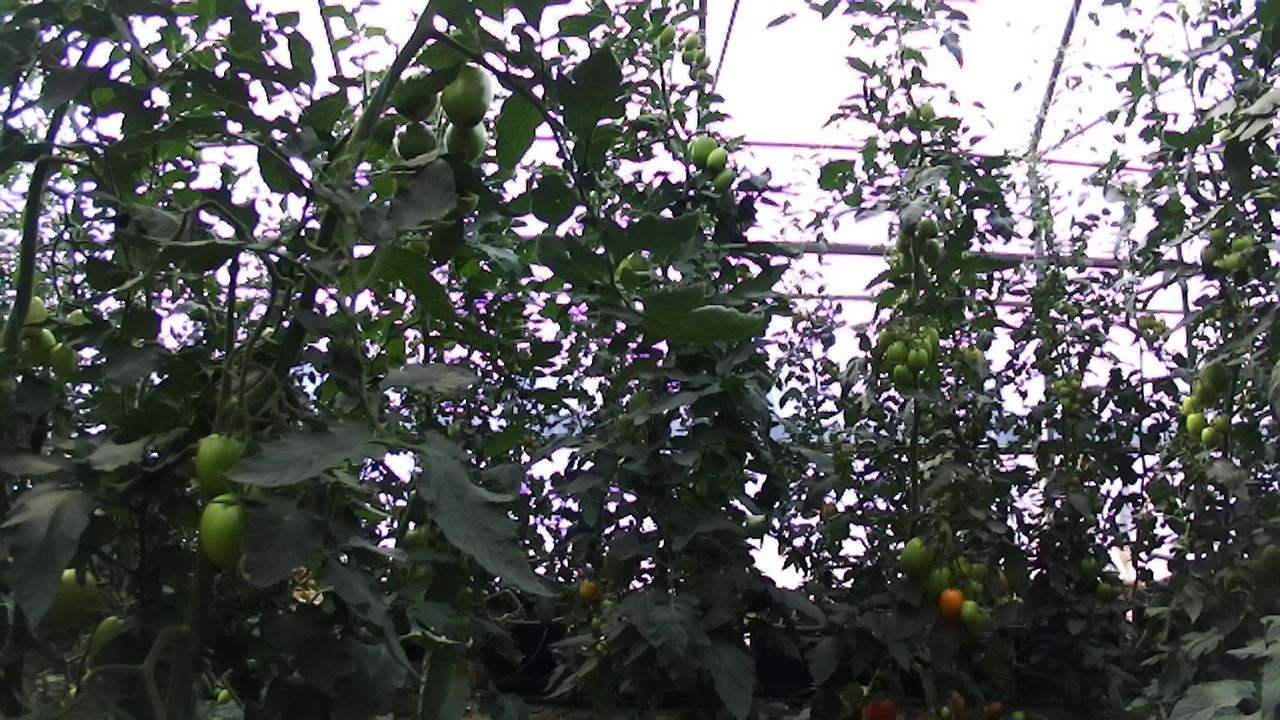tomato: (189, 479, 274, 582), (26, 550, 113, 637), (184, 421, 268, 506), (434, 55, 498, 135), (78, 601, 144, 675), (383, 54, 445, 130), (437, 107, 496, 173), (389, 111, 445, 173), (892, 528, 946, 584), (13, 315, 62, 371), (40, 332, 88, 387), (917, 556, 957, 601), (686, 128, 723, 174), (933, 580, 969, 622), (572, 569, 608, 609), (1199, 356, 1234, 396), (1189, 374, 1222, 410), (912, 211, 946, 243), (701, 142, 734, 174), (1177, 388, 1208, 420), (954, 595, 983, 628), (1077, 549, 1105, 582), (710, 165, 739, 196), (1184, 407, 1211, 440), (883, 336, 912, 366), (1195, 421, 1224, 450), (1226, 229, 1254, 259), (889, 359, 917, 388), (903, 343, 931, 372), (1091, 576, 1119, 605), (915, 319, 942, 349), (1205, 222, 1232, 251), (915, 97, 939, 129), (1221, 245, 1246, 275), (679, 26, 705, 54), (1210, 408, 1235, 437), (921, 237, 945, 267), (902, 103, 923, 137), (655, 21, 679, 50), (1197, 242, 1224, 267), (677, 45, 701, 67), (691, 44, 708, 68), (1052, 374, 1069, 393), (1055, 382, 1074, 399), (1068, 373, 1084, 392), (1072, 389, 1089, 405), (1067, 400, 1083, 415)
